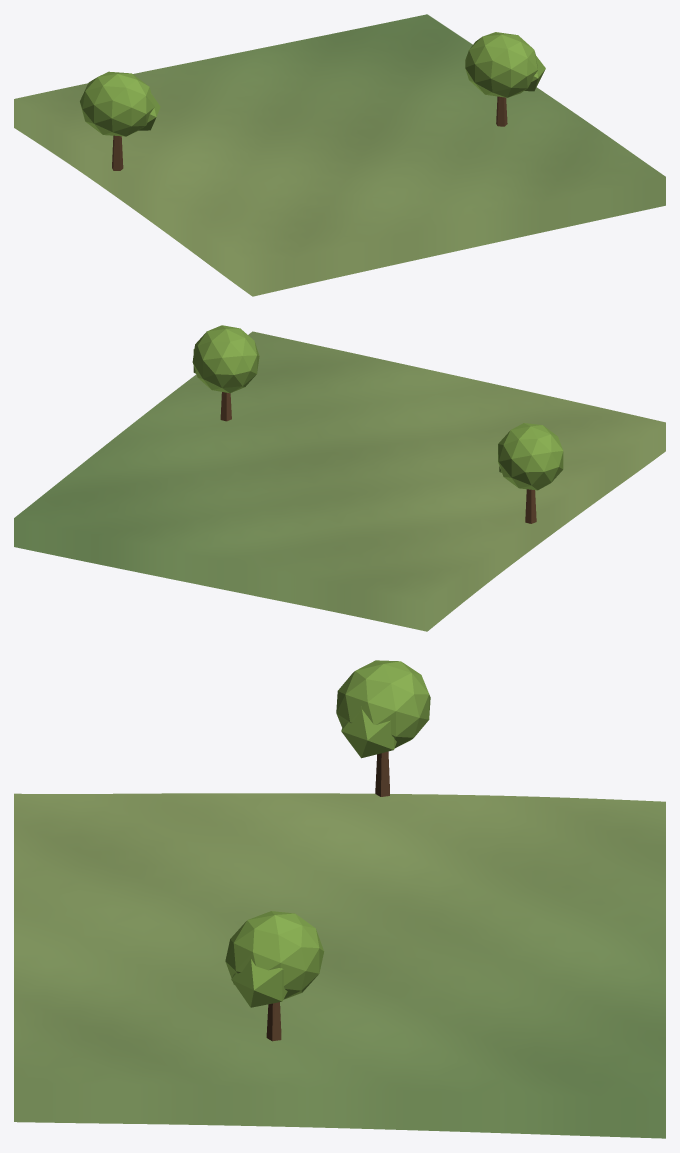
The picture shows the model from 3 angles, top to bottom: view 1: azimuth 30°, elevation 25°; view 2: azimuth 150°, elevation 25°; view 3: azimuth 270°, elevation 25°; orthographic projection. The views are drawn at different scales.
Parts seen in each view (by area): view 1: terrain, scenery; view 2: terrain, scenery; view 3: terrain, scenery.
Part boxes in pixels (bbox=[...]): terrain: bbox=[14, 14, 665, 296]; scenery: bbox=[80, 32, 545, 170]; terrain: bbox=[14, 331, 665, 631]; scenery: bbox=[192, 325, 563, 523]; terrain: bbox=[14, 793, 665, 1138]; scenery: bbox=[225, 660, 430, 1041].
Size of the model in its own units: 32.29 by 10.11 by 30.
